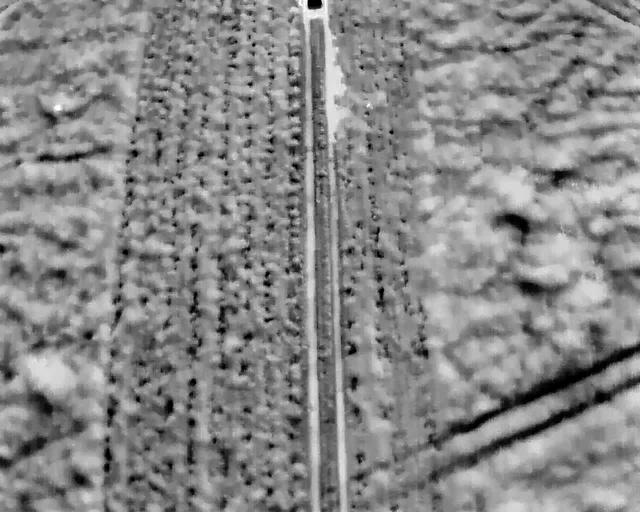car: (304, 0, 327, 13)
person: (294, 0, 304, 8)
